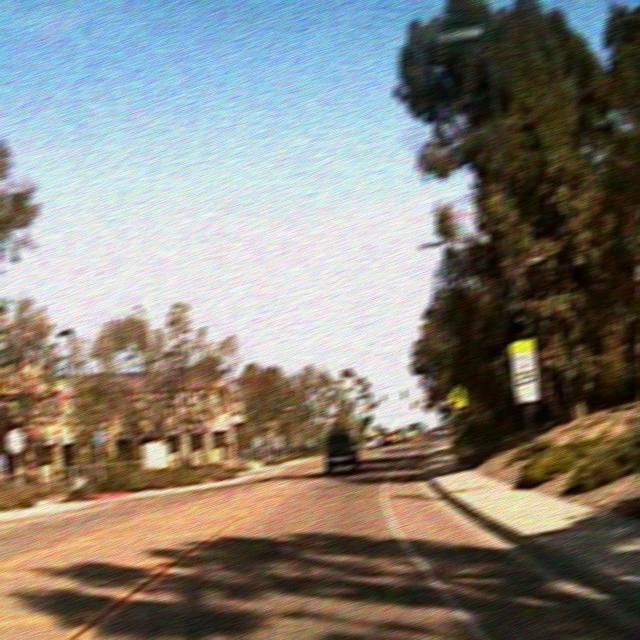speedLimit25: (509, 337, 539, 403)
